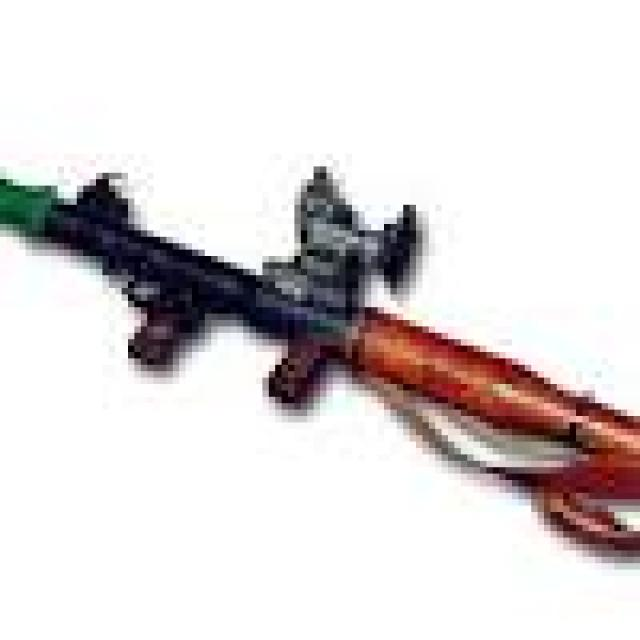Gun: (0, 142, 640, 564)
